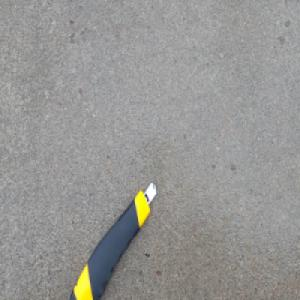Cutter: (68, 180, 159, 299)
